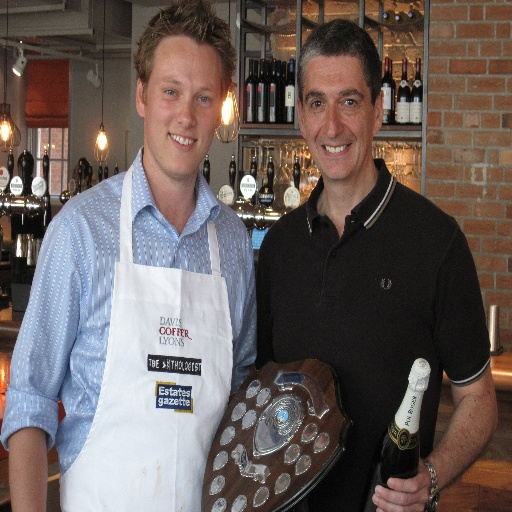hand: (371, 457, 432, 511)
